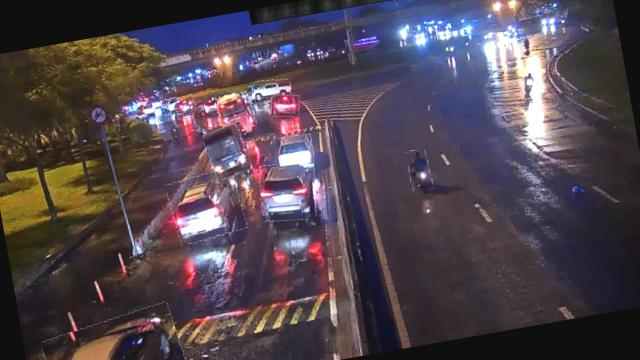Bike: (406, 148, 434, 192), (520, 70, 538, 100)
Bus: (216, 91, 256, 134)
Car: (40, 305, 188, 360), (166, 167, 248, 244), (256, 158, 322, 225), (273, 132, 316, 170), (252, 77, 292, 102), (269, 91, 302, 119), (168, 94, 196, 116)
Truck: (204, 123, 252, 180)
